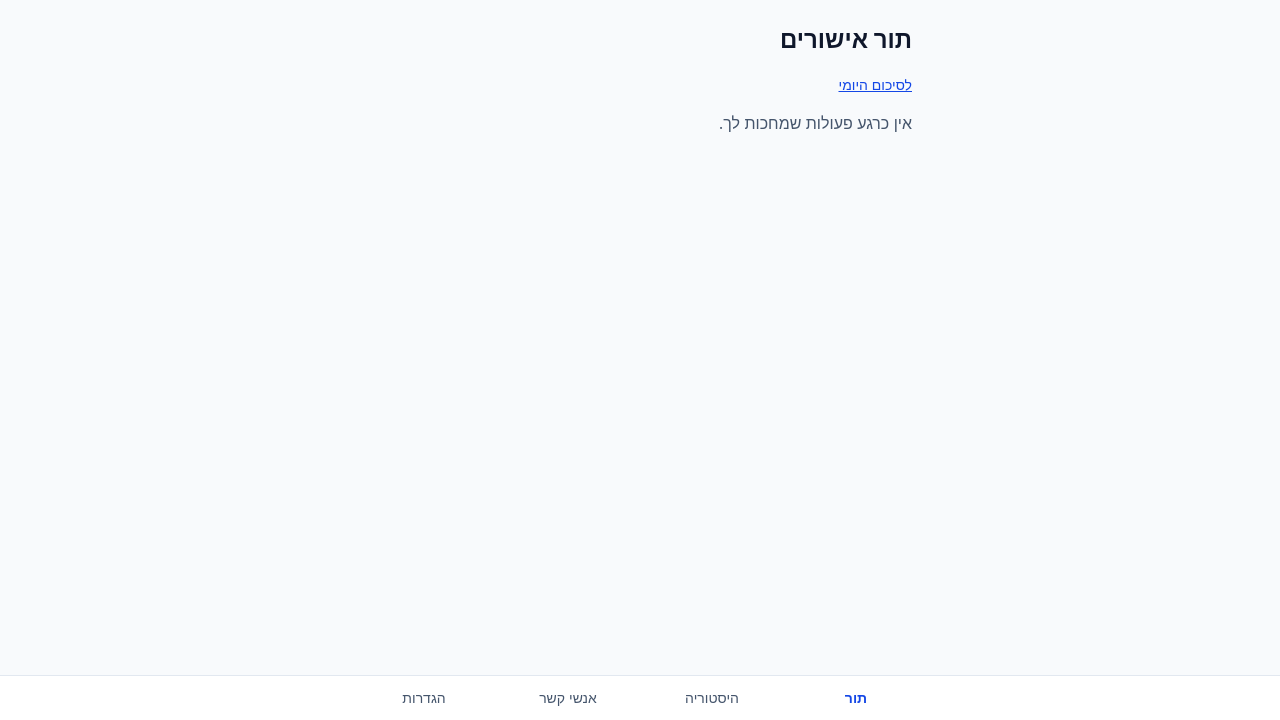
Test case: app shell › navigates between the four main screens from the bottom nav
The width and height of the screenshot is (1280, 720).
Click the link "היסטוריה": (712, 698) [685,689,739,706]
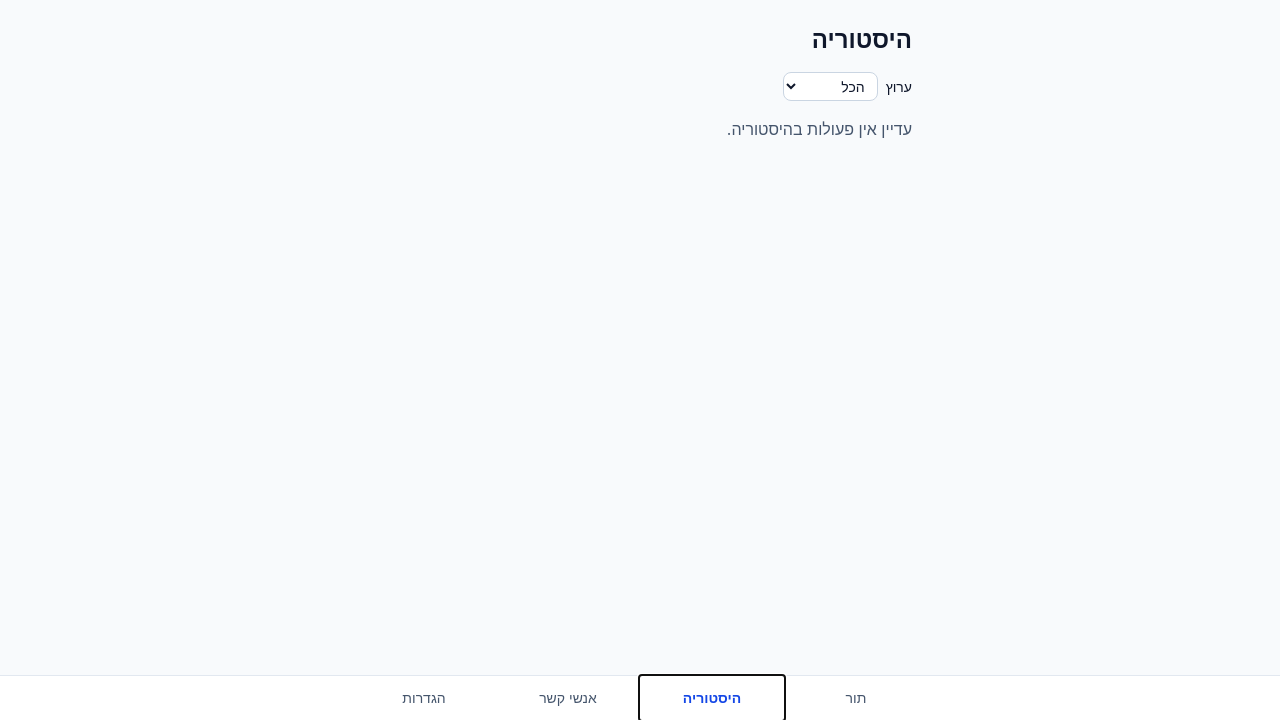
Result: the heading "היסטוריה" is shown at [812,25,912,54]
Click the link "אנשי קשר": (568, 698) [539,689,597,706]
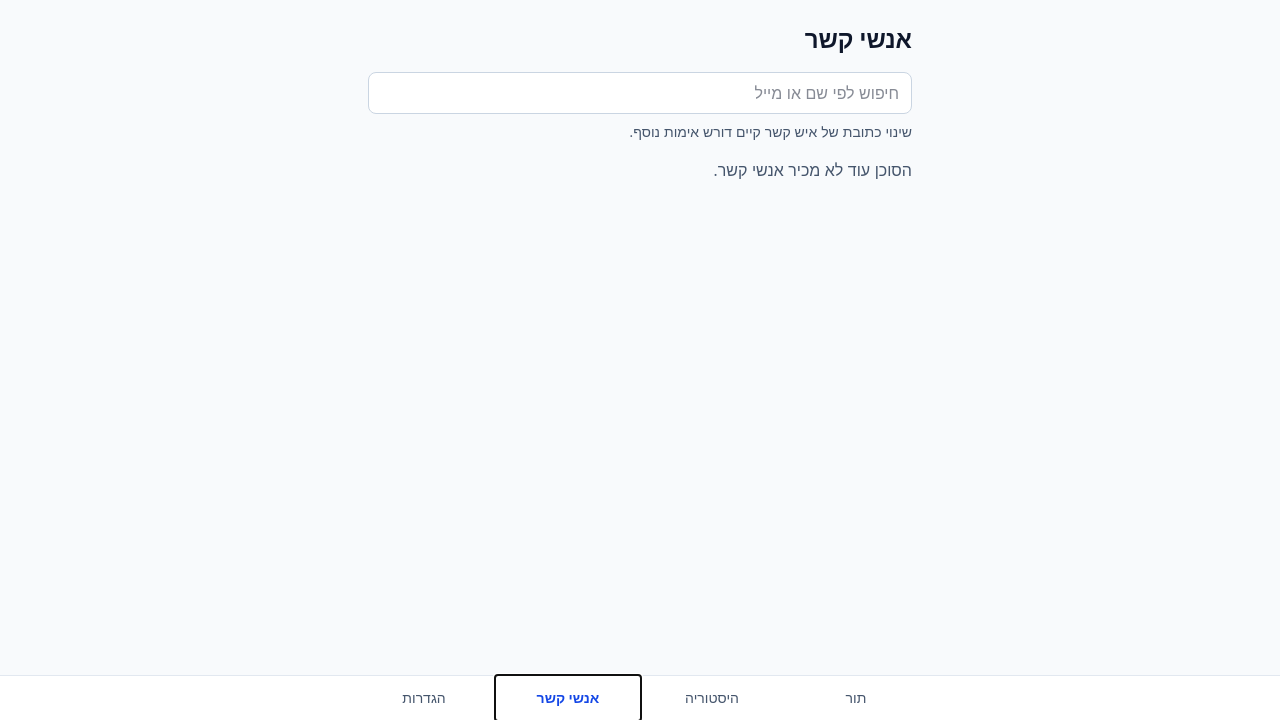
Result: the heading "אנשי קשר" is shown at [805,25,912,54]
Click the link "הגדרות": (424, 698) [402,689,446,706]
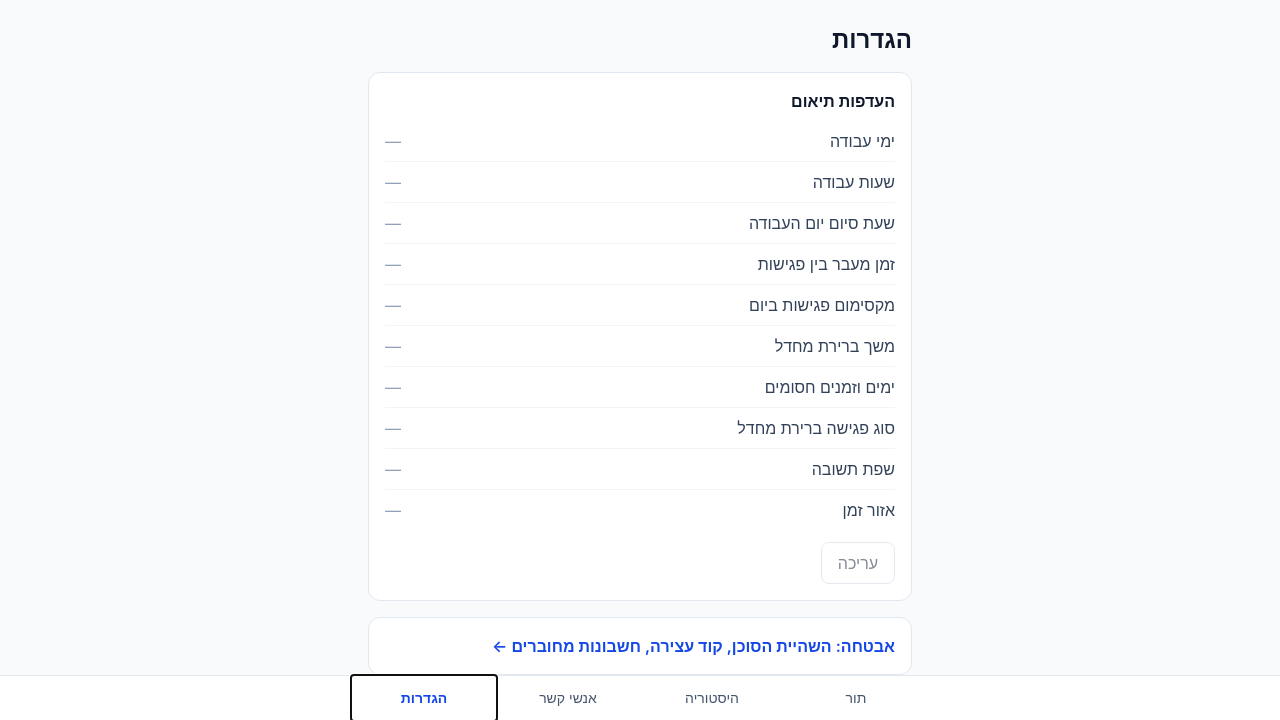
Result: the heading "הגדרות" is shown at [832,25,912,54]
Click the link "תור": (856, 698) [846,689,866,706]
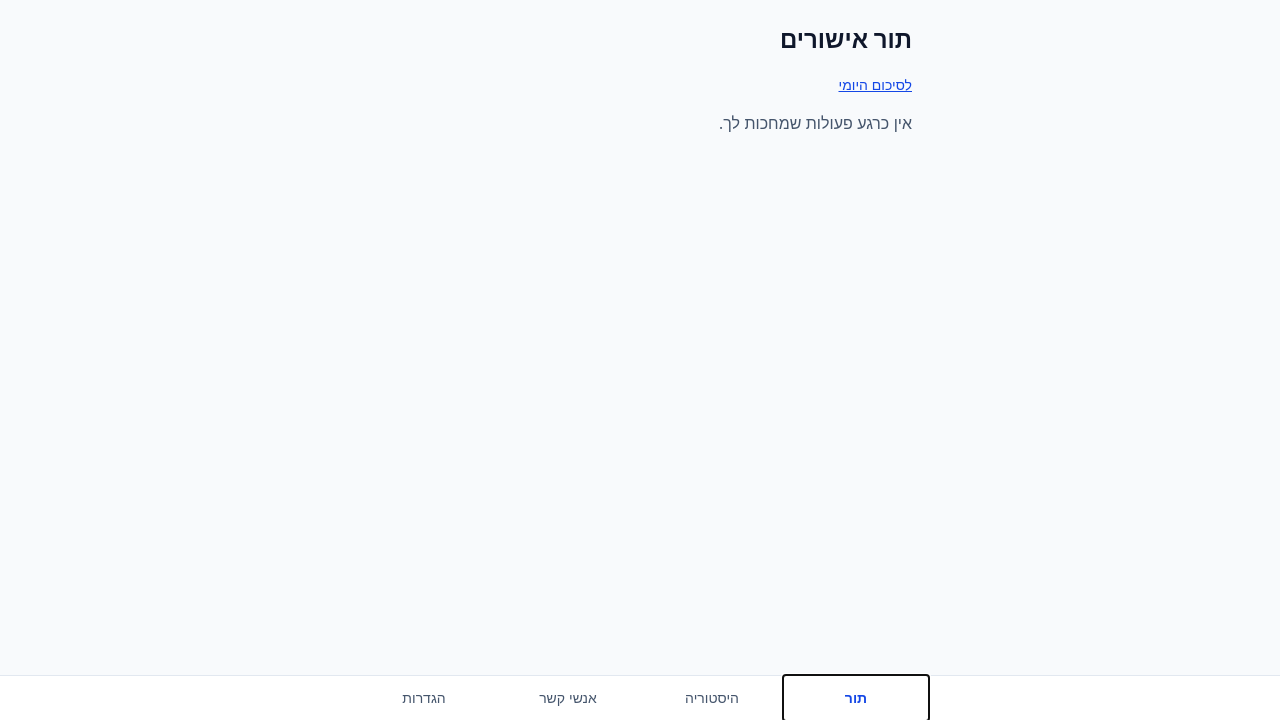
Result: the heading "תור אישורים" is shown at [780,25,912,54]
